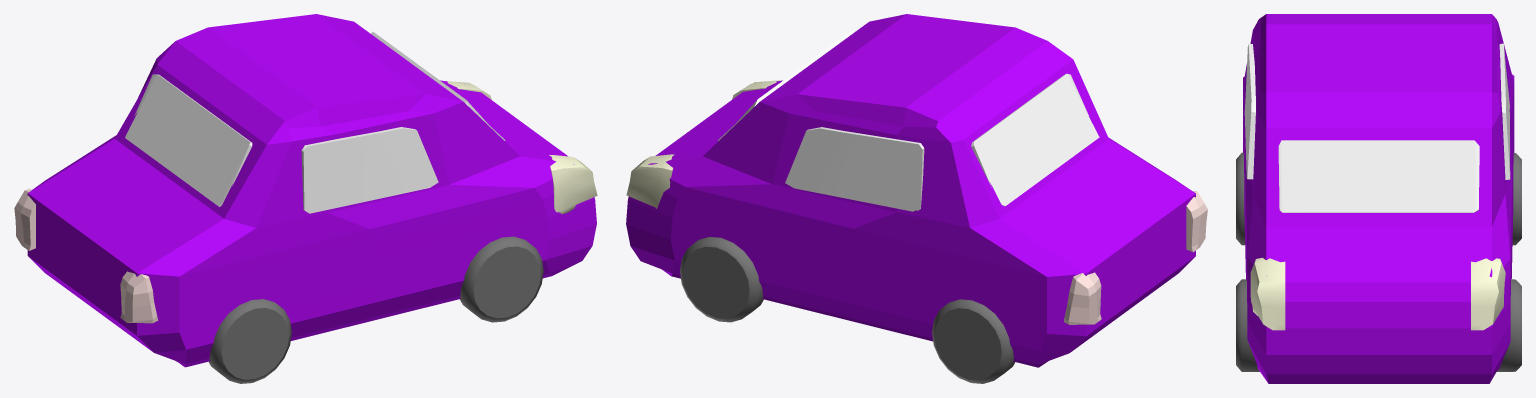
File: CarroMorado.fbx
The picture shows the model from 3 angles, left to right: view 1: azimuth 30°, elevation 25°; view 2: azimuth 150°, elevation 25°; view 3: azimuth 270°, elevation 25°; orthographic projection. The views are drawn at different scales.
Visible parts, largest first — view 1: pCube1, pCube10, pCube8, pCylinder1, pCylinder2, pCube11, pCube9, pCube6; view 2: pCube1, pCube10, pCube12, pCylinder3, pCylinder4, pCube11, pCube9, pCube6; view 3: pCube1, pCube6, pCube9, pCube8, pCylinder1, pCylinder3, pCube12, pCylinder4, pCylinder2.
Boxes of the visible parts, bbox=[...] form: pCube1: bbox=[27, 14, 596, 367]; pCube10: bbox=[125, 74, 252, 206]; pCube8: bbox=[301, 127, 438, 213]; pCylinder1: bbox=[460, 236, 543, 322]; pCylinder2: bbox=[209, 299, 291, 383]; pCube11: bbox=[14, 188, 158, 323]; pCube9: bbox=[445, 81, 597, 214]; pCube6: bbox=[371, 31, 505, 140]; pCube1: bbox=[626, 14, 1195, 367]; pCube10: bbox=[971, 73, 1099, 206]; pCube12: bbox=[785, 127, 924, 211]; pCylinder3: bbox=[680, 237, 763, 322]; pCylinder4: bbox=[932, 299, 1015, 383]; pCube11: bbox=[1063, 191, 1207, 324]; pCube9: bbox=[626, 80, 781, 208]; pCube6: bbox=[717, 31, 853, 141]; pCube1: bbox=[1243, 14, 1514, 383]; pCube6: bbox=[1278, 140, 1479, 212]; pCube9: bbox=[1250, 257, 1505, 330]; pCube8: bbox=[1244, 44, 1255, 179]; pCylinder1: bbox=[1236, 279, 1259, 371]; pCylinder3: bbox=[1496, 279, 1521, 371]; pCube12: bbox=[1499, 43, 1510, 179]; pCylinder4: bbox=[1512, 153, 1521, 245]; pCylinder2: bbox=[1236, 152, 1244, 245].
Size of the model in its own units: 21.67 by 10.94 by 11.09.
